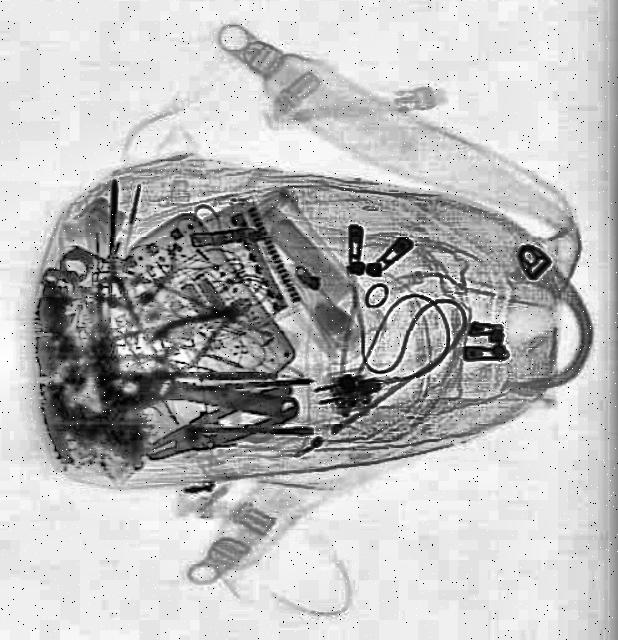Pliers: (138, 382, 306, 478), (148, 284, 268, 382)
Wrench: (107, 358, 304, 437)
